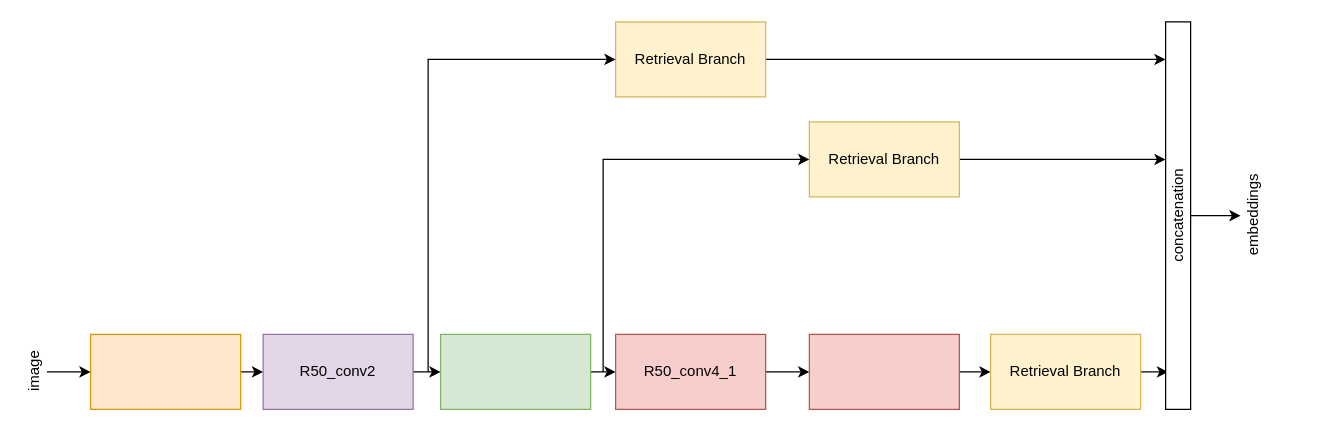
The diagram is 1324 pixels wide and 431 high, and some of its shapes have lost their labels. The shapes that lost their labels are listed below. From the top down, each one's centre as x and y in pixels, then its label:
point 165,371: conv1
point 515,371: R50_conv3
point 883,371: R50_conv4_2-3-4-5-6
